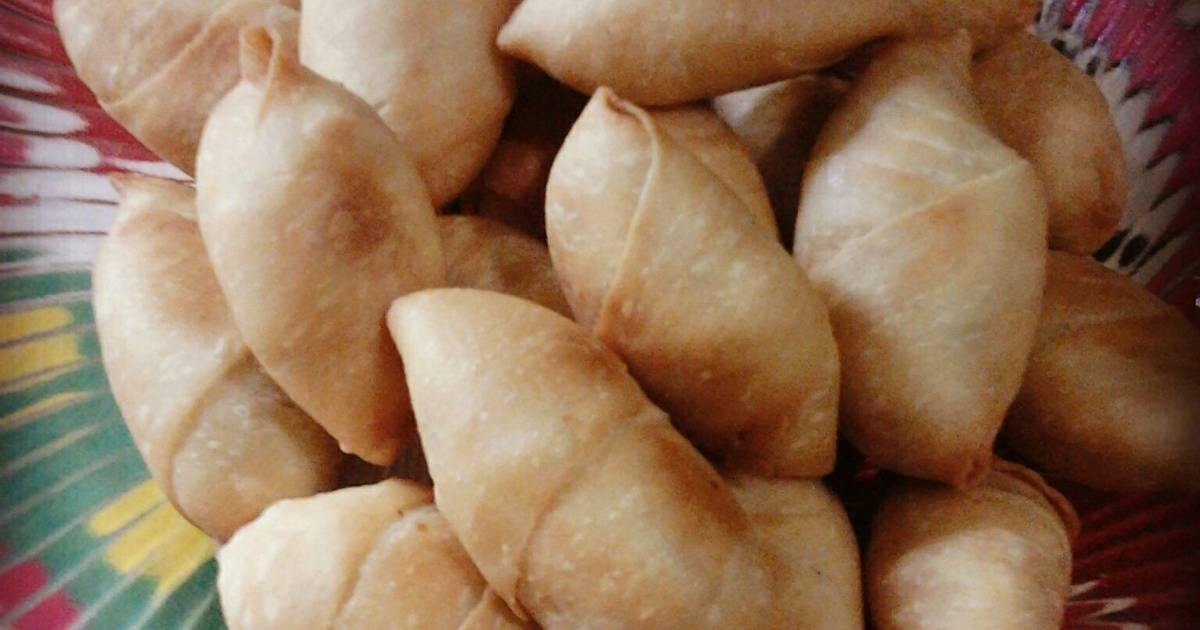pisang_molen: (387, 289, 783, 625), (196, 22, 453, 467), (561, 84, 845, 475)
